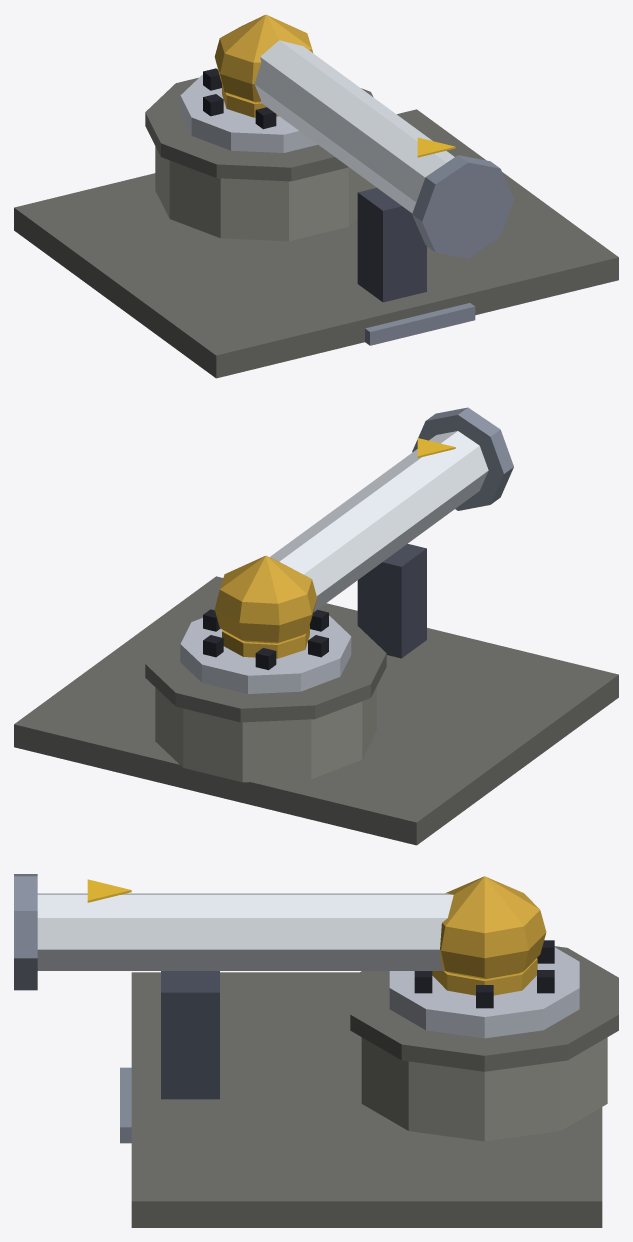
File: injection-well.glb
3 views of the same model, one above another, from view 1: azimuth 30°, elevation 25°; view 2: azimuth 150°, elevation 25°; view 3: azimuth 270°, elevation 25° (orthographic). The views are drawn at different scales.
Parts seen in each view (by area): view 1: injection-well; view 2: injection-well; view 3: injection-well.
Part boxes in pixels (bbox=[...]): injection-well: bbox=[14, 14, 618, 378]; injection-well: bbox=[14, 407, 618, 845]; injection-well: bbox=[14, 874, 618, 1227].
Size of the model in its own units: 0.92 by 0.445 by 1.03.
Materials: 1 (1 with a texture image).
